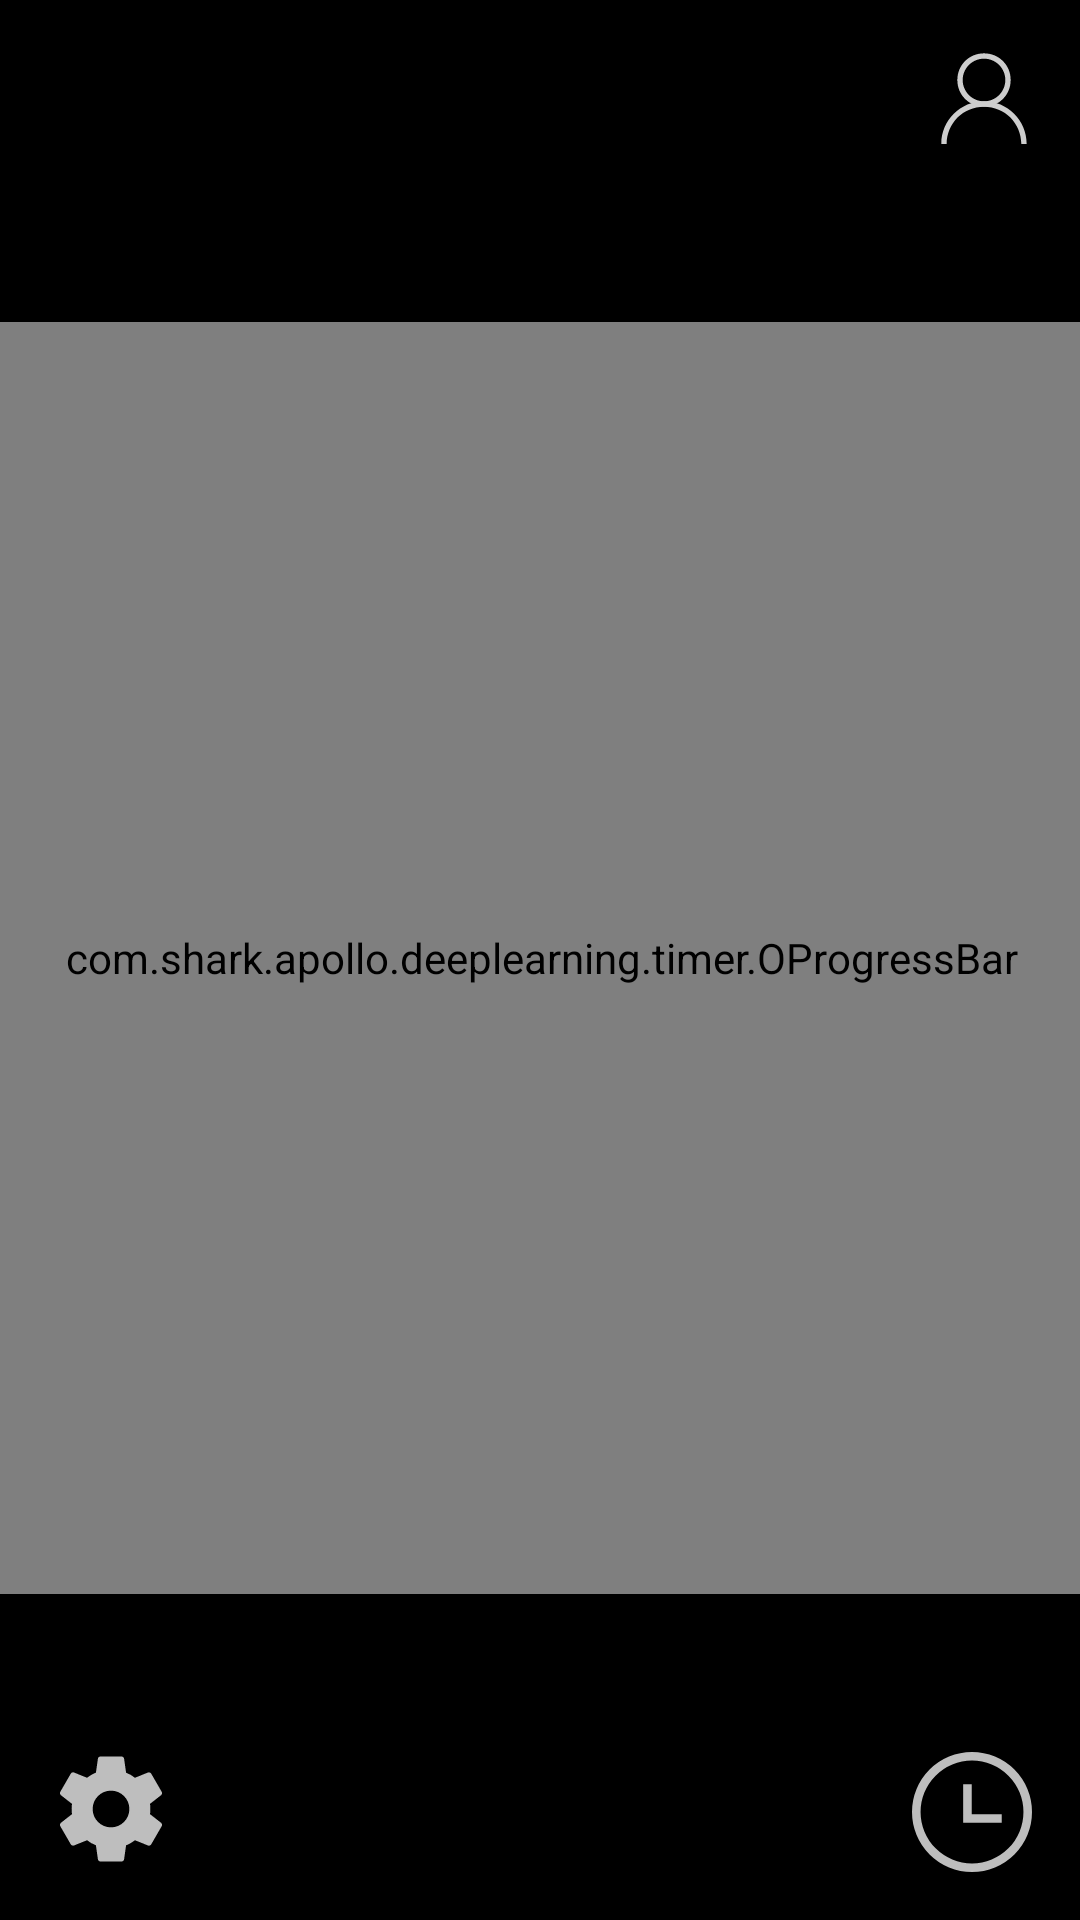

Named icons in this screenshot (1080x1920) and their bounding boxes, {"left": x1, "top": y1, "right": x2, "bottom": y2}:
settings: {"left": 60, "top": 1756, "right": 162, "bottom": 1862}
user: {"left": 941, "top": 53, "right": 1027, "bottom": 144}
